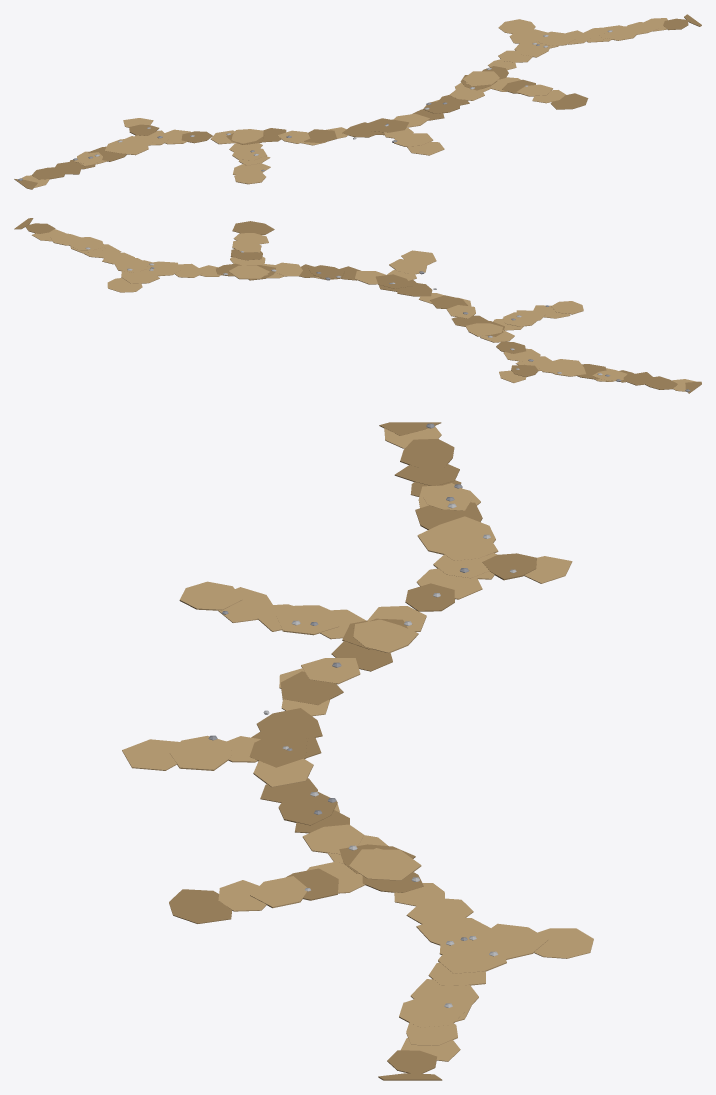
Rendered from Camp Paths.fbx.
The picture shows the model from 3 angles, top to bottom: view 1: azimuth 30°, elevation 25°; view 2: azimuth 150°, elevation 25°; view 3: azimuth 270°, elevation 25°; orthographic projection. The views are drawn at different scales.
Visible parts, largest first — view 1: Camp Paths; view 2: Camp Paths; view 3: Camp Paths.
Part boxes in pixels (x1,y1,x2,y2): Camp Paths: [14, 14, 701, 189]; Camp Paths: [14, 218, 701, 393]; Camp Paths: [122, 422, 593, 1080].
Bounding box in the file's own units: 13.96 × 0.05 × 4.23.
